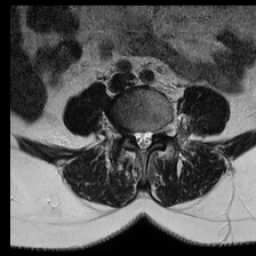CCS_normal: (140, 122, 147, 156)
LFS_severe_stenosis: (154, 119, 163, 139)
LLS_normal: (147, 124, 154, 150)
RFS_severe_stenosis: (124, 120, 132, 142)
RLS_normal: (132, 123, 140, 149)
